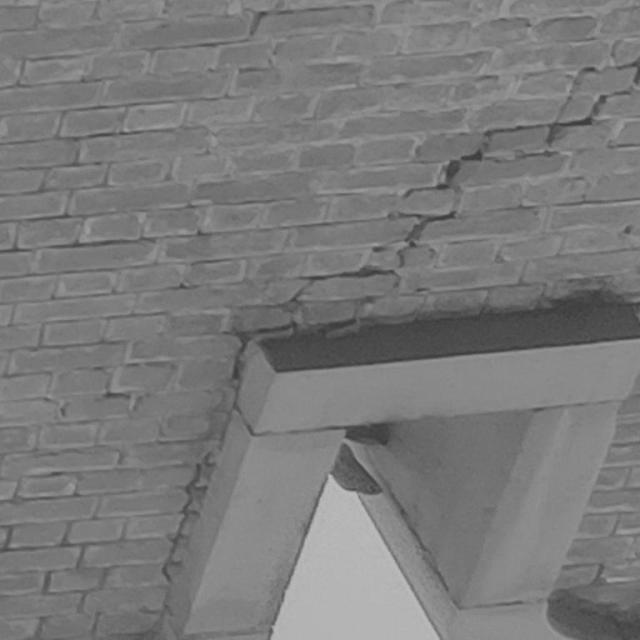crack: (221, 58, 638, 380), (161, 451, 216, 584), (551, 598, 640, 638)
